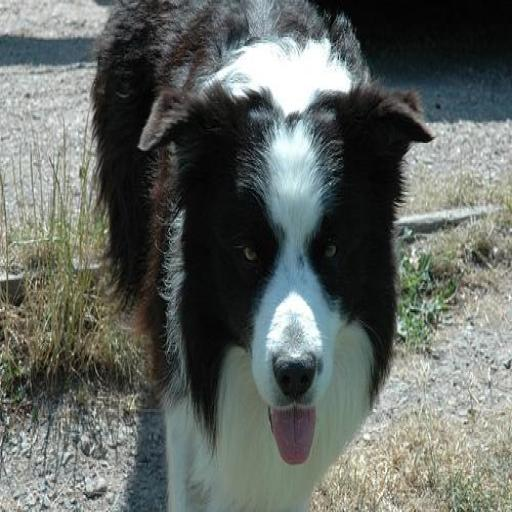dog_face: (148, 83, 419, 451)
